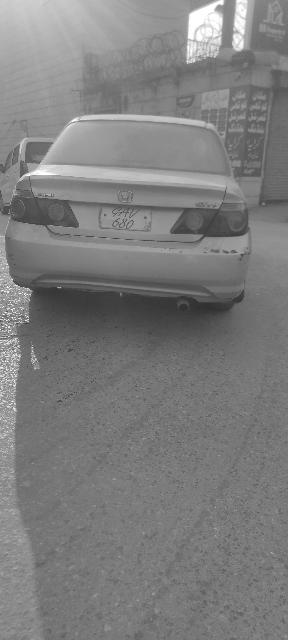Number: (107, 206, 145, 231)
